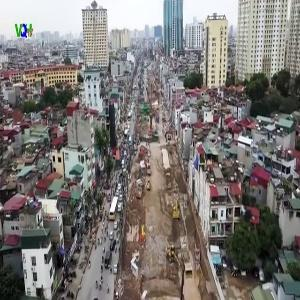drone: (188, 175, 288, 275)
